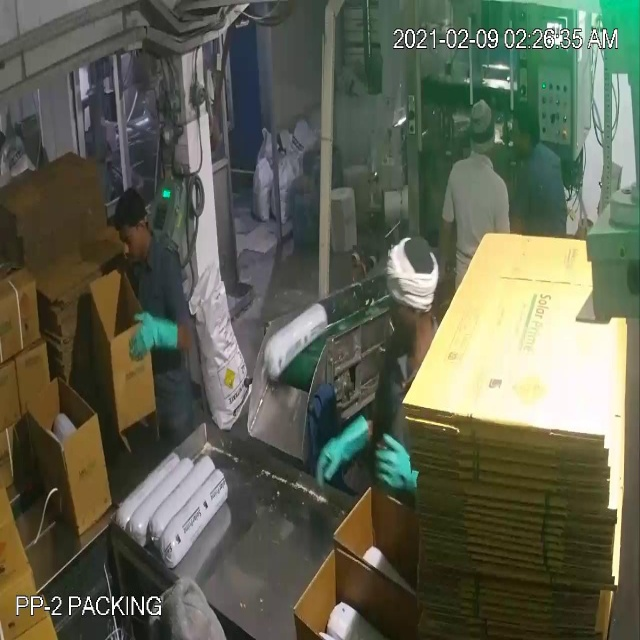Guantes: (311, 396, 372, 498), (374, 421, 432, 516), (126, 294, 186, 375)
Sin_guantes: (433, 207, 456, 276)
